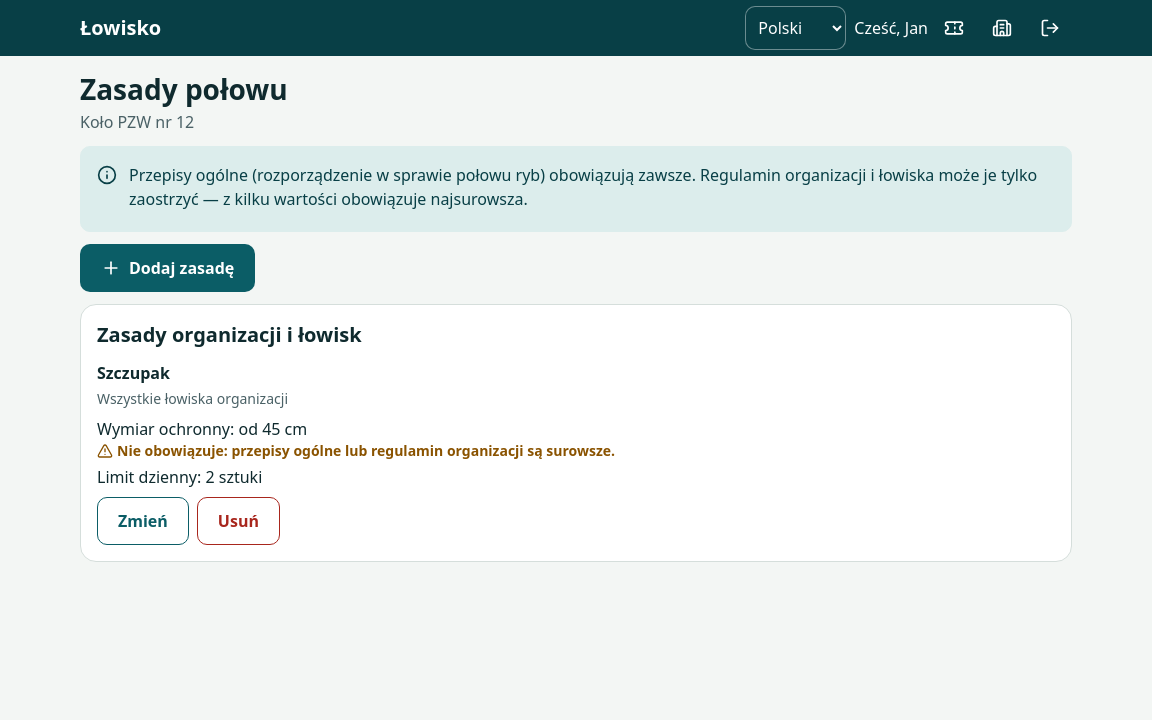
organization rules page › deletes a rule after a second click
Click the button with aria-label "Usuń zasadę: Szczupak" at (238, 521), box [197,497,280,545]
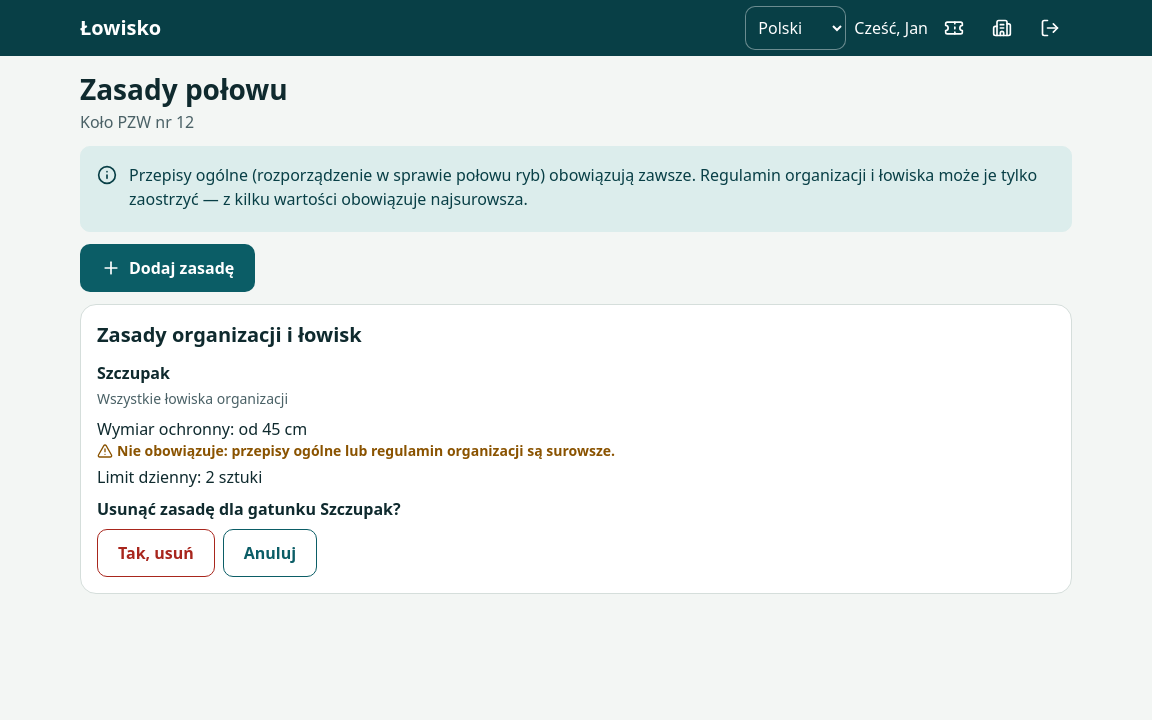
Expected: the text "Usunąć zasadę dla gatunku Szczupak?" is shown, [97,498,401,520]
Click the button "Tak, usuń" at (156, 553), box [97,529,215,577]
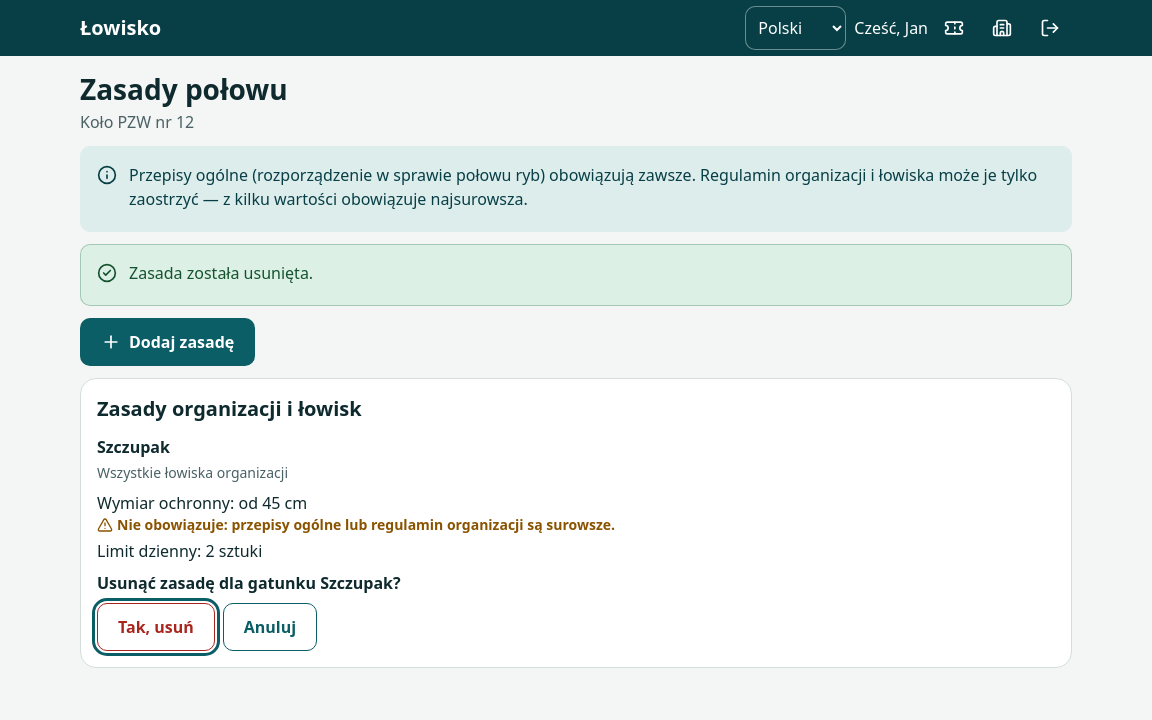
Expected: the text "Zasada została usunięta." is shown, [129,262,313,284]
